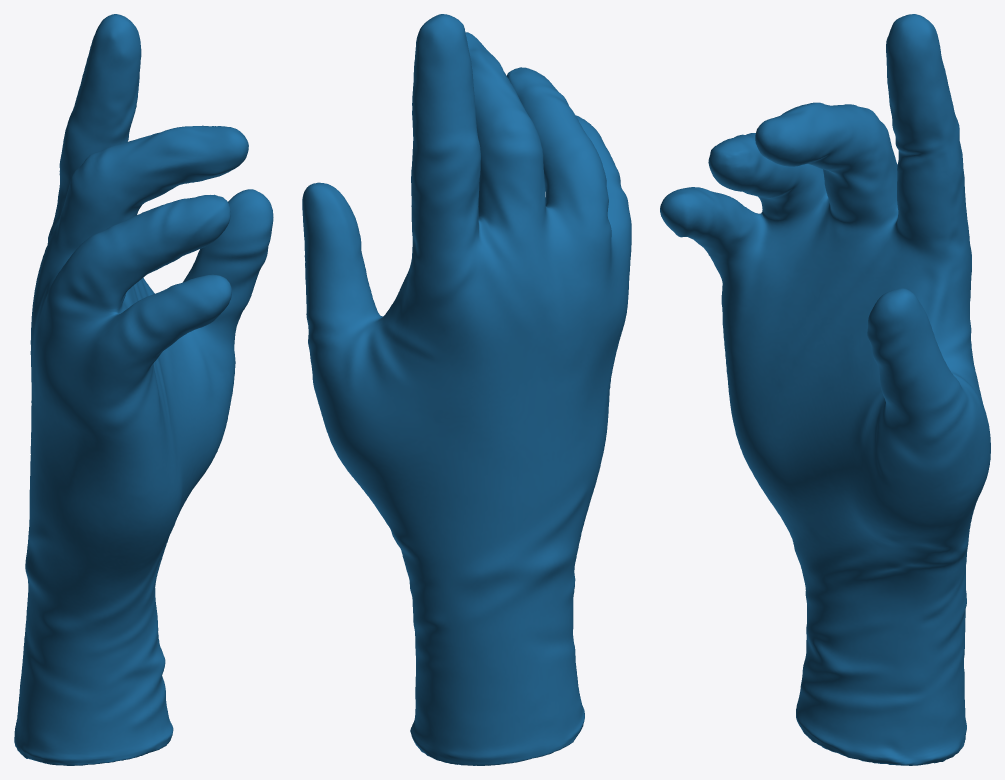
File: glove3D.gltf
3 renders of one model, left to right at view 1: azimuth 30°, elevation 25°; view 2: azimuth 150°, elevation 25°; view 3: azimuth 270°, elevation 25°, orthographic. The views are drawn at different scales.
Parts seen in each view (by area): view 1: GloveNitrile; view 2: GloveNitrile; view 3: GloveNitrile.
Boxes of the visible parts, bbox=[...] form: GloveNitrile: bbox=[14, 14, 273, 765]; GloveNitrile: bbox=[302, 14, 631, 765]; GloveNitrile: bbox=[660, 14, 990, 765].
Bounding box in the file's own units: 97.91 × 254 × 103.
